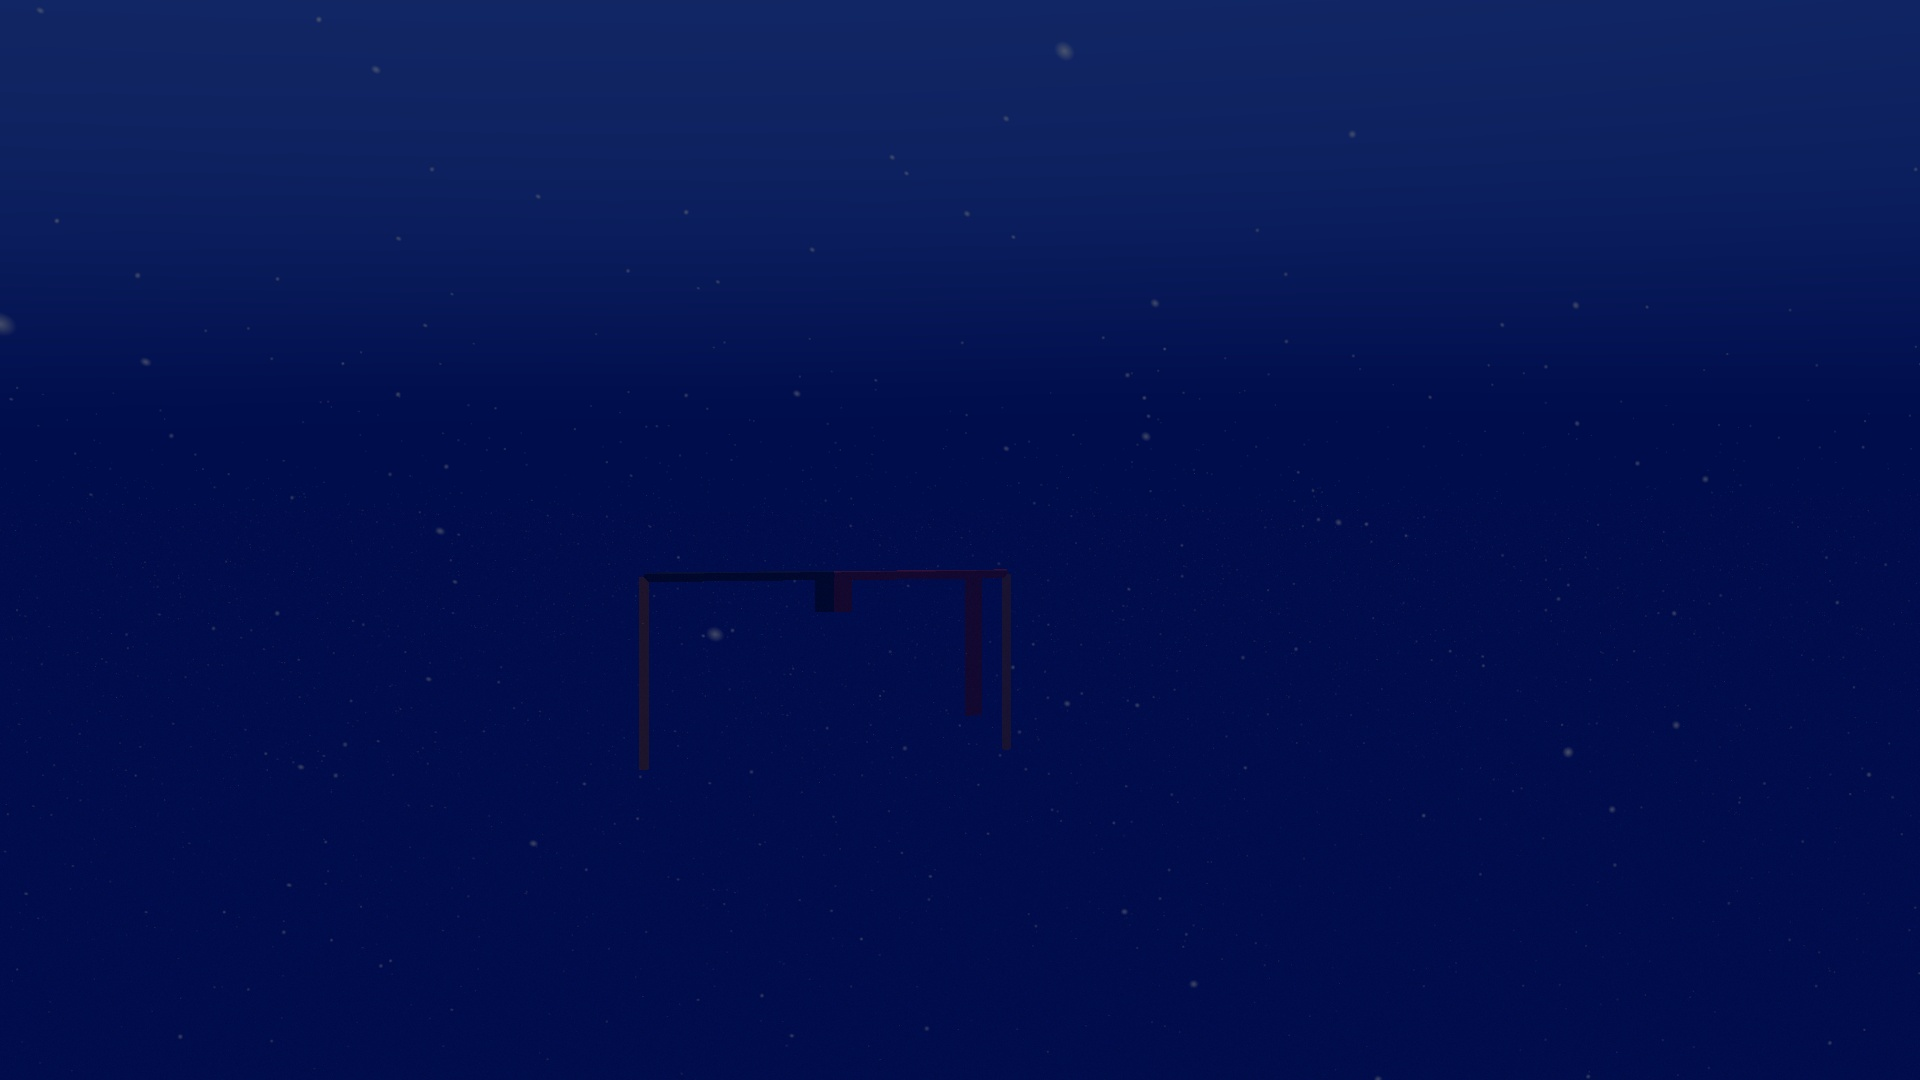Gate: (628, 560, 1022, 779)
